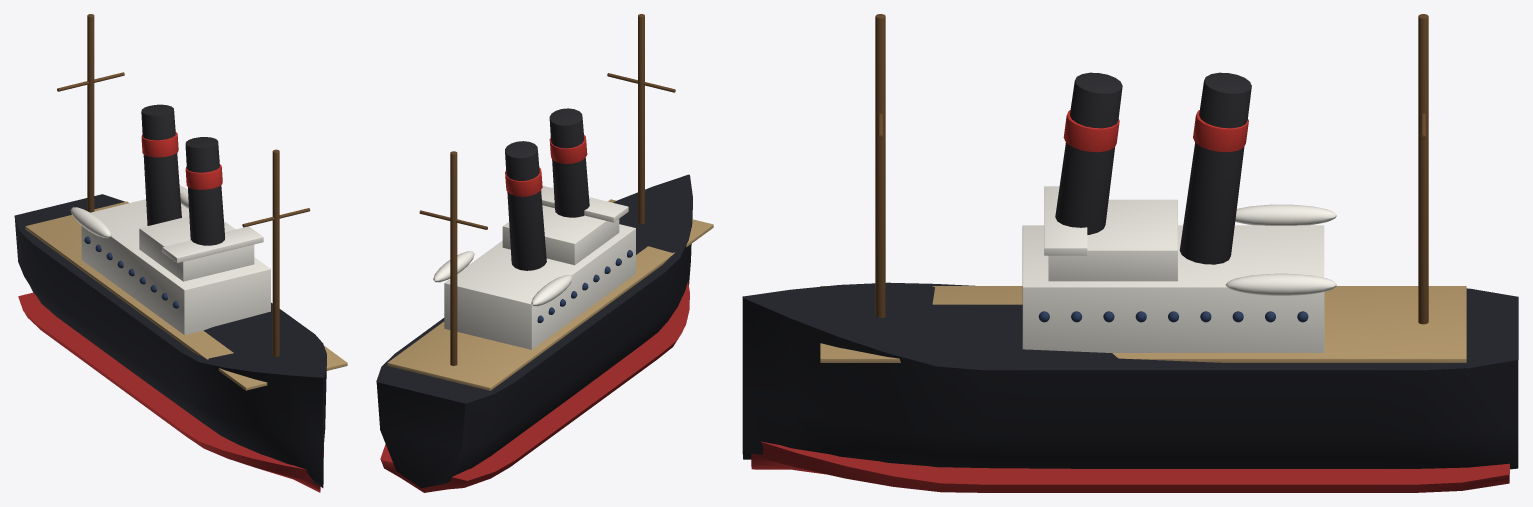
File: navio_vapor.glb
The picture shows the model from 3 angles, left to right: view 1: azimuth 30°, elevation 25°; view 2: azimuth 150°, elevation 25°; view 3: azimuth 270°, elevation 25°; orthographic projection. The views are drawn at different scales.
Visible parts, largest first — view 1: navio_vapor; view 2: navio_vapor; view 3: navio_vapor.
Part boxes in pixels (box(x1,y1,x2,y2)): navio_vapor: box(14, 14, 347, 492); navio_vapor: box(376, 14, 713, 492); navio_vapor: box(742, 14, 1518, 492).
Size of the model in its own units: 4.62 by 11.8 by 18.02.
